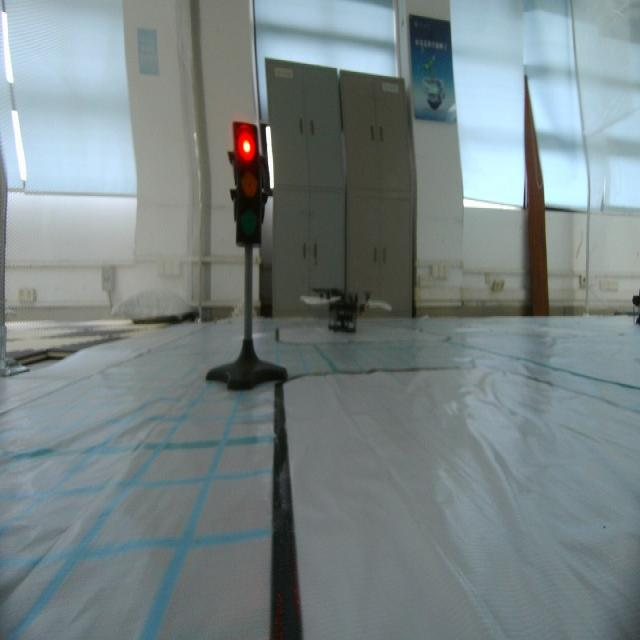red: (227, 123, 269, 255)
